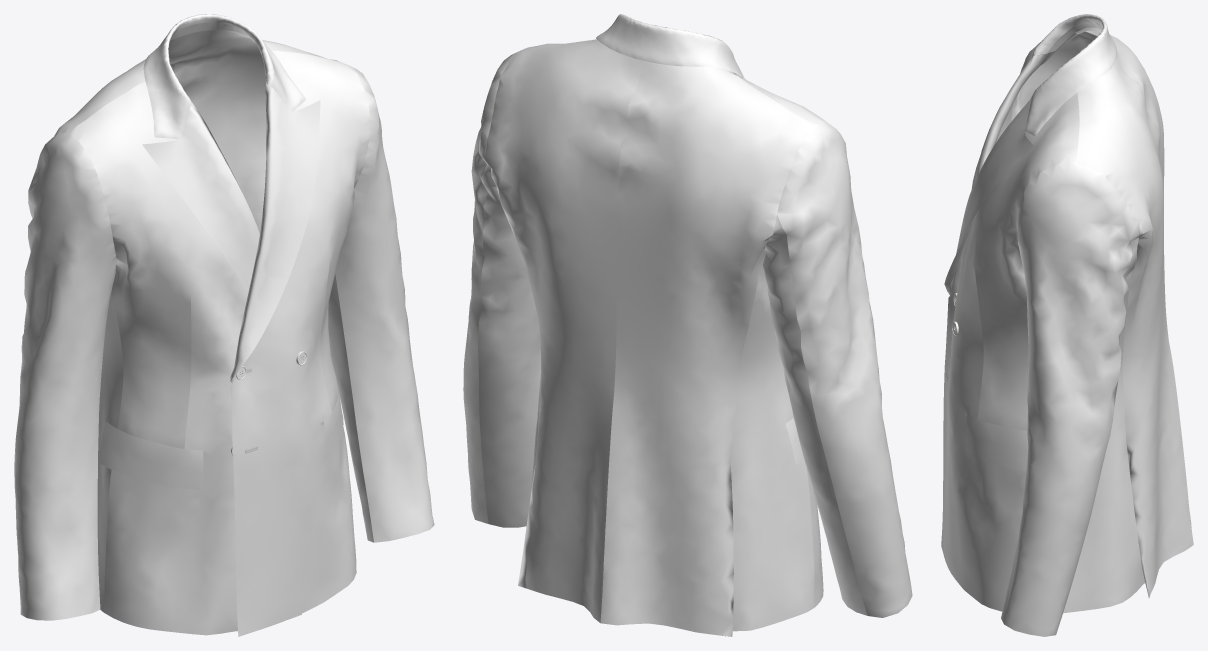
Rendered from main_coat.gltf.
The picture shows the model from 3 angles, left to right: view 1: azimuth 30°, elevation 25°; view 2: azimuth 150°, elevation 25°; view 3: azimuth 270°, elevation 25°; orthographic projection. The views are drawn at different scales.
Visible parts, largest first — view 1: Cloth; view 2: Cloth; view 3: Cloth.
Part boxes in pixels (box(x1,y1,x2,y2)): Cloth: box(14, 14, 434, 636); Cloth: box(463, 14, 912, 636); Cloth: box(941, 14, 1193, 636).
Size of the model in its own units: 0.5927 by 0.7742 by 0.3277.
8 materials, 3 textured.
